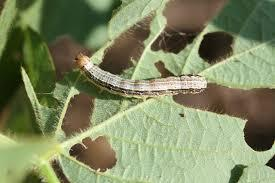fallarmy_worm: (75, 51, 209, 98)
